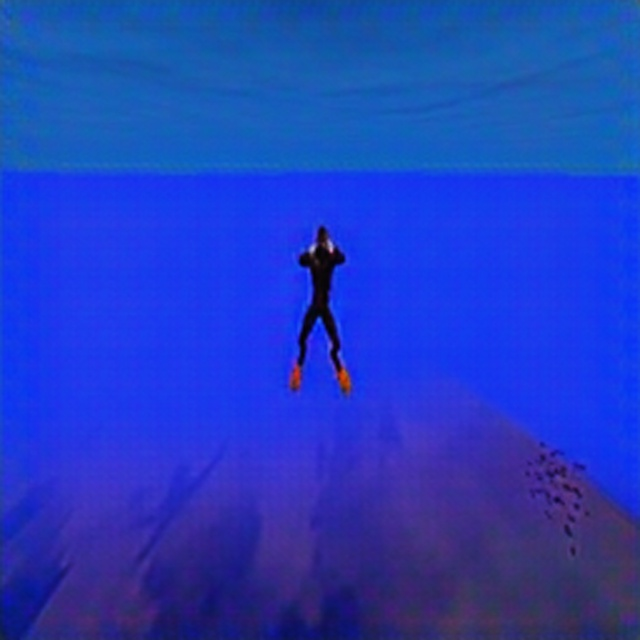diver: (288, 221, 354, 398)
